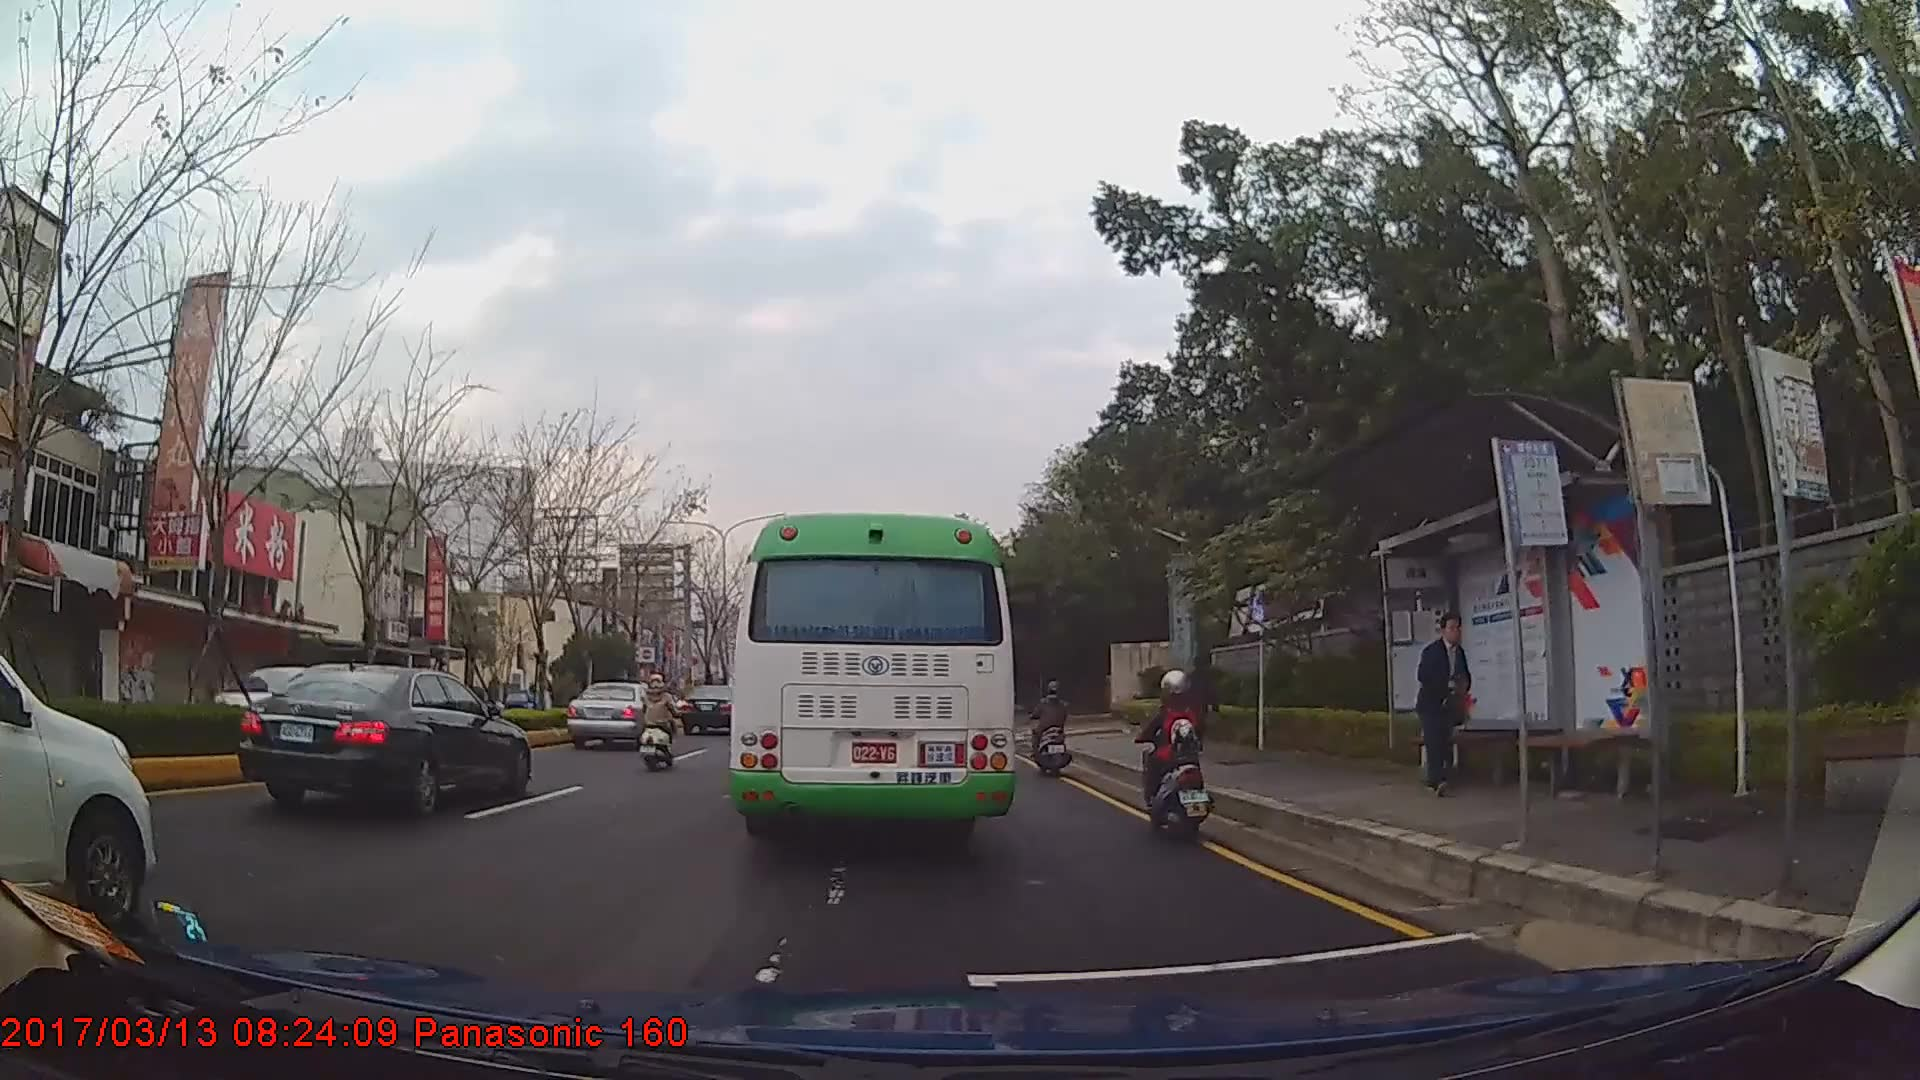pedestrian: (1417, 605, 1483, 795), (1166, 647, 1218, 755)
rider: (1133, 664, 1218, 836), (1029, 671, 1074, 775), (643, 670, 681, 764), (737, 680, 765, 731)
vehicle: (729, 508, 1012, 847), (236, 657, 531, 809), (567, 678, 664, 748), (678, 682, 746, 736)
